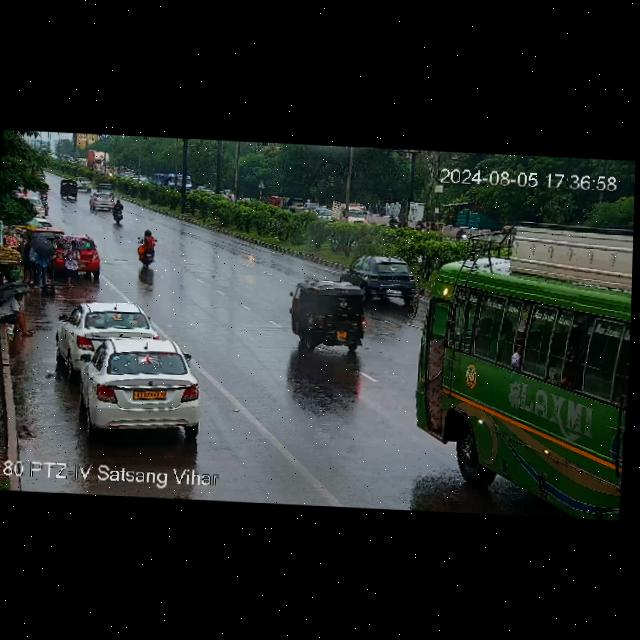bus: (407, 215, 634, 519), (152, 170, 194, 193)
car: (60, 336, 209, 439), (288, 279, 372, 352), (59, 301, 157, 363), (350, 257, 421, 301), (54, 230, 103, 276), (58, 180, 80, 201), (90, 192, 114, 210), (30, 196, 48, 215), (286, 204, 306, 220), (76, 176, 92, 190), (97, 183, 113, 192)
motorcycle: (130, 226, 165, 269), (107, 202, 127, 221)
person: (22, 234, 55, 286), (0, 291, 37, 335), (64, 240, 82, 284)
truck: (327, 199, 365, 225), (85, 146, 107, 169)
